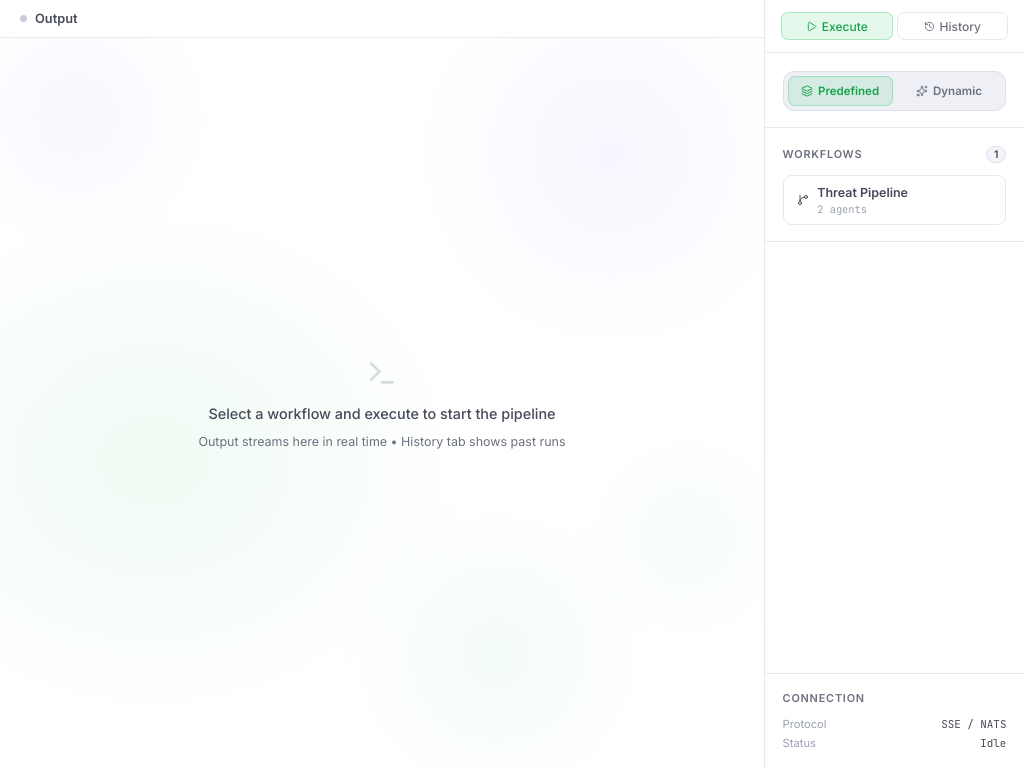
Test: AgentOrchestration workflow selection › shows scenario input when a workflow is selected
The width and height of the screenshot is (1024, 768).
Click the text "Threat Pipeline".
click(863, 192)  # box [817, 184, 908, 200]
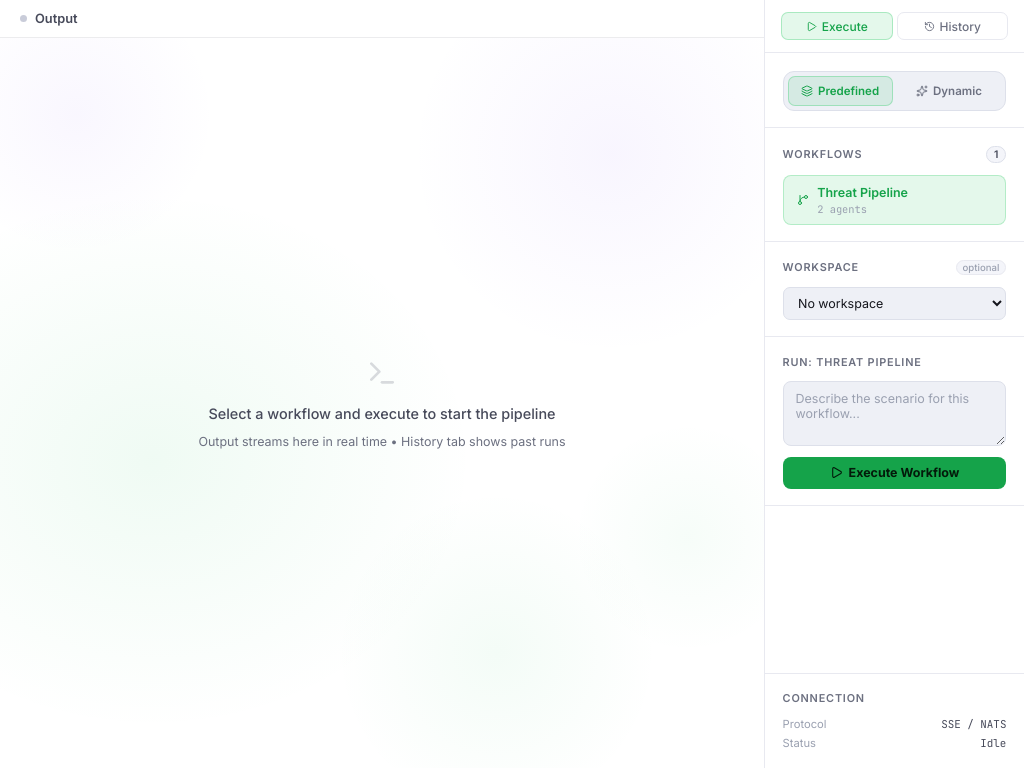
Check: the text box with placeholder "Describe the scenario for this workflow..." is shown, box [783, 381, 1006, 446]
